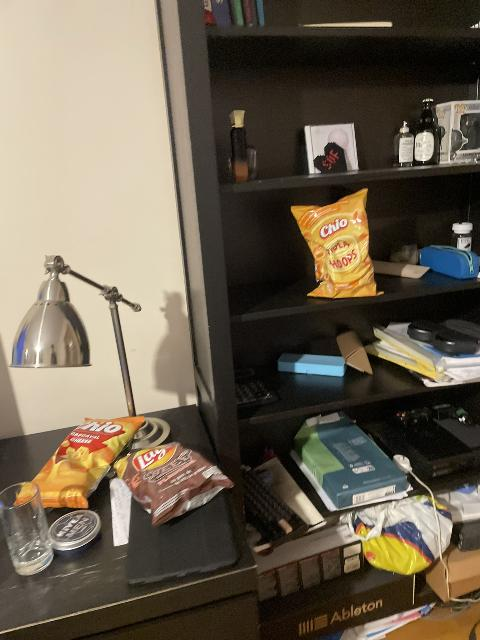Chio Cascaval 125g: (12, 415, 147, 508)
Chio Hula Hoops Cheese 70g: (298, 189, 382, 299)
Lays Beef Grilled Ribs 125g: (117, 438, 235, 525)
